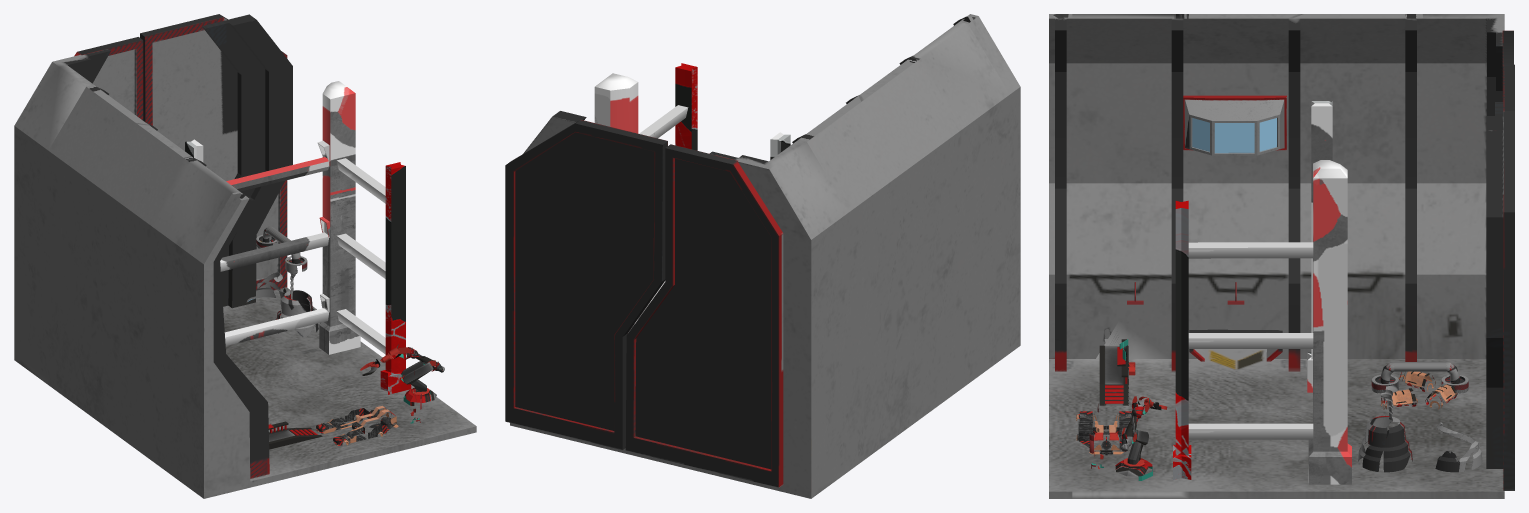
Rendered from Robot_Raid_Mech_hangar.fbx.
3 views of the same model, side by side, from view 1: azimuth 30°, elevation 25°; view 2: azimuth 150°, elevation 25°; view 3: azimuth 270°, elevation 25° (orthographic). The views are drawn at different scales.
Parts seen in each view (by area): view 1: SAVE MECHA 3, SAVE MECHA 3.004, SAVE MECHA 3.007, SAVE MECHA 3.005, SAVE MECHA 3.006; view 2: SAVE MECHA 3, SAVE MECHA 3.004; view 3: SAVE MECHA 3, SAVE MECHA 3.004, SAVE MECHA 3.007, SAVE MECHA 3.005, SAVE MECHA 3.006.
Boxes of the visible parts, left/top/right/bottom form: SAVE MECHA 3: left=14, top=14, right=476, bottom=498; SAVE MECHA 3.004: left=185, top=81, right=411, bottom=394; SAVE MECHA 3.007: left=246, top=226, right=318, bottom=336; SAVE MECHA 3.005: left=360, top=344, right=444, bottom=405; SAVE MECHA 3.006: left=316, top=405, right=398, bottom=445; SAVE MECHA 3: left=505, top=14, right=1020, bottom=498; SAVE MECHA 3.004: left=594, top=63, right=790, bottom=332; SAVE MECHA 3: left=1049, top=14, right=1514, bottom=498; SAVE MECHA 3.004: left=1173, top=101, right=1351, bottom=484; SAVE MECHA 3.007: left=1358, top=362, right=1482, bottom=472; SAVE MECHA 3.005: left=1115, top=396, right=1167, bottom=480; SAVE MECHA 3.006: left=1076, top=411, right=1132, bottom=455.
Bounding box in the file's own units: 48.19 × 49.31 × 59.34.
